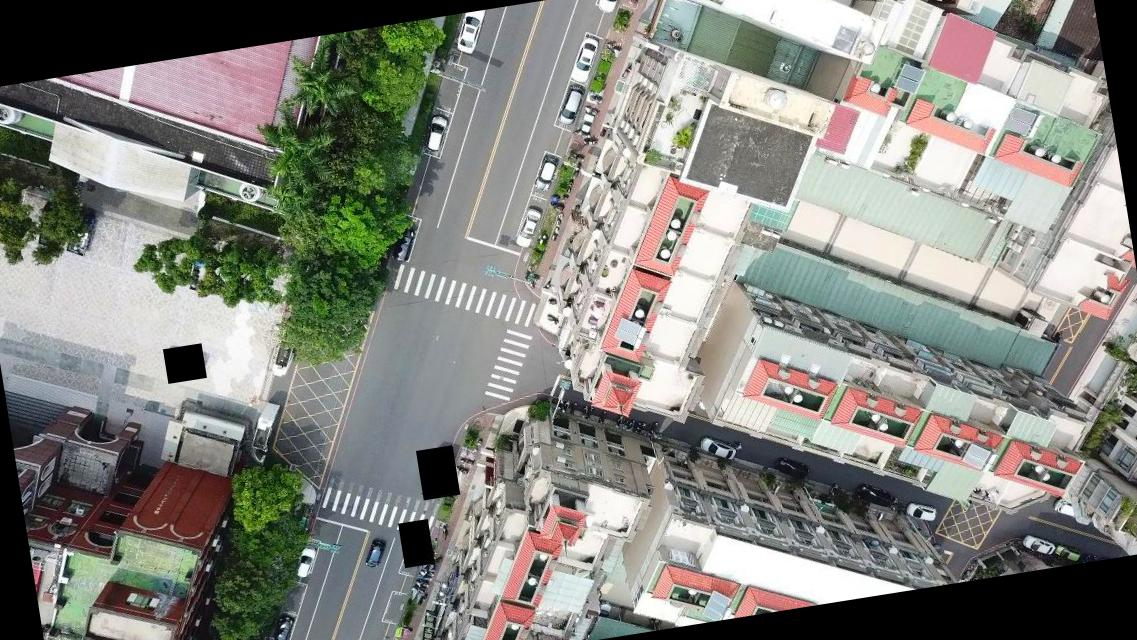vehicle: (450, 9, 494, 58), (564, 34, 604, 85), (552, 82, 591, 126), (511, 206, 547, 248), (418, 112, 454, 154), (697, 431, 738, 464), (529, 153, 562, 193), (388, 226, 420, 264), (774, 452, 812, 482), (856, 481, 893, 511), (1021, 530, 1058, 558), (361, 536, 389, 568), (904, 498, 938, 524), (292, 546, 318, 578), (267, 613, 298, 639), (1052, 494, 1081, 520), (1052, 540, 1083, 564), (592, 0, 626, 17)
